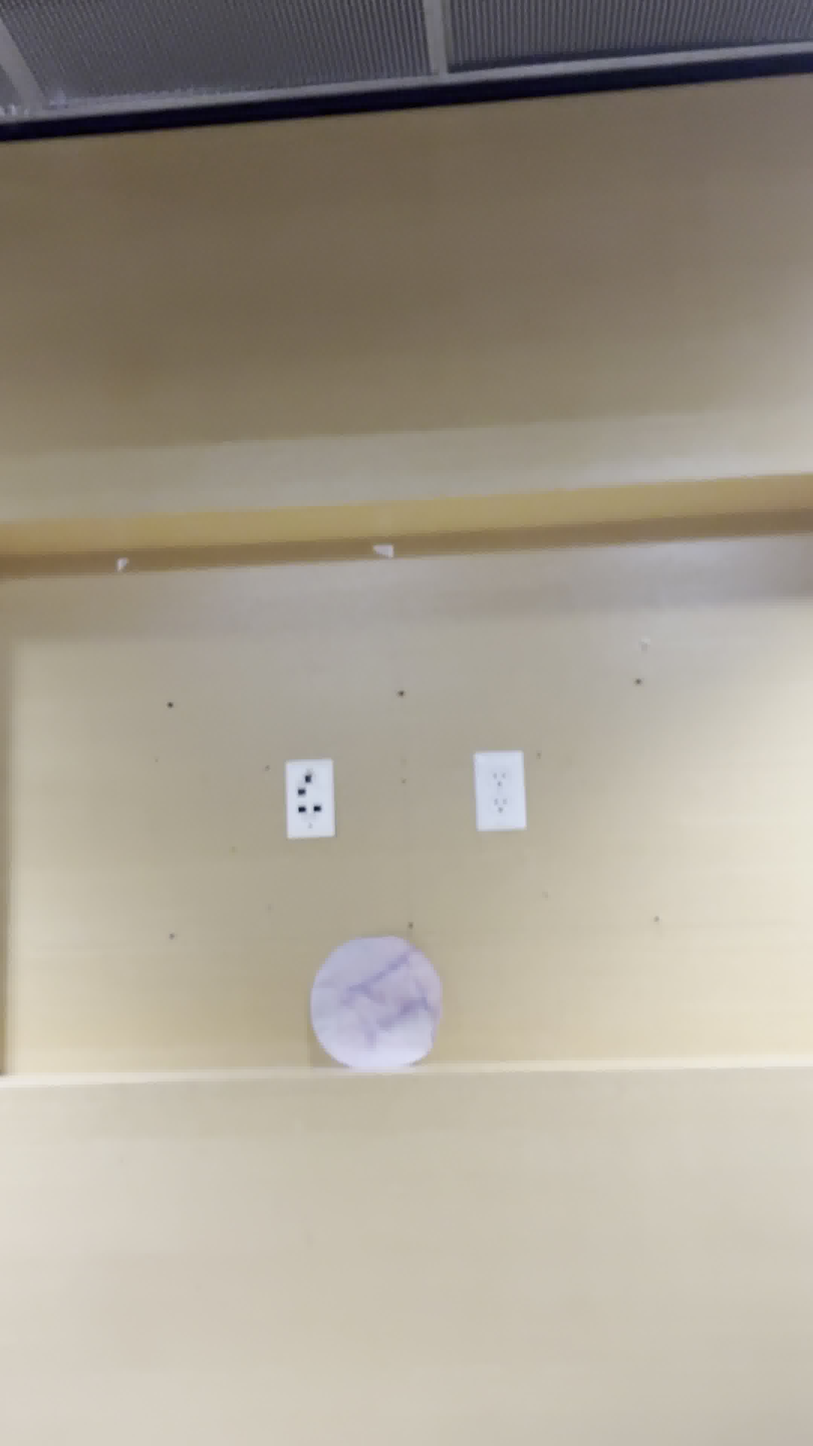Target: (309, 943, 441, 1064)
